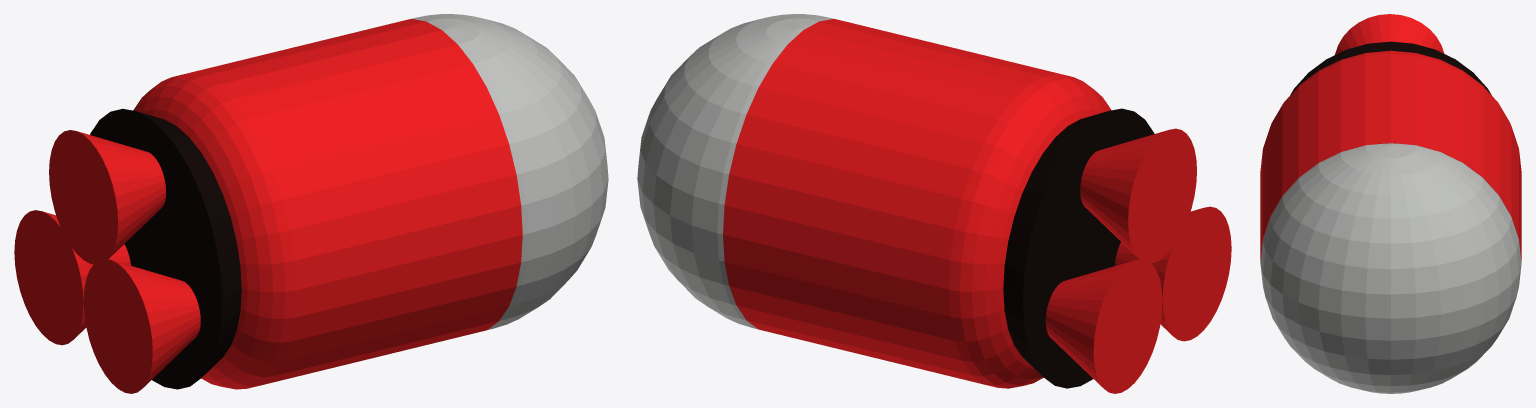
File: shoe_3.fbx
The picture shows the model from 3 angles, left to right: view 1: azimuth 30°, elevation 25°; view 2: azimuth 150°, elevation 25°; view 3: azimuth 270°, elevation 25°; orthographic projection. The views are drawn at different scales.
Visible parts, largest first — view 1: Cone.006; view 2: Cone.006; view 3: Cone.006.
Boxes of the visible parts, box(x1,y1,x2,y2) form: Cone.006: box(14, 14, 608, 393); Cone.006: box(637, 14, 1231, 393); Cone.006: box(1260, 14, 1521, 393).
Bounding box in the file's own units: 130 × 71.66 × 71.66.
